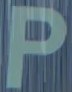Parking: (4, 2, 63, 84)
